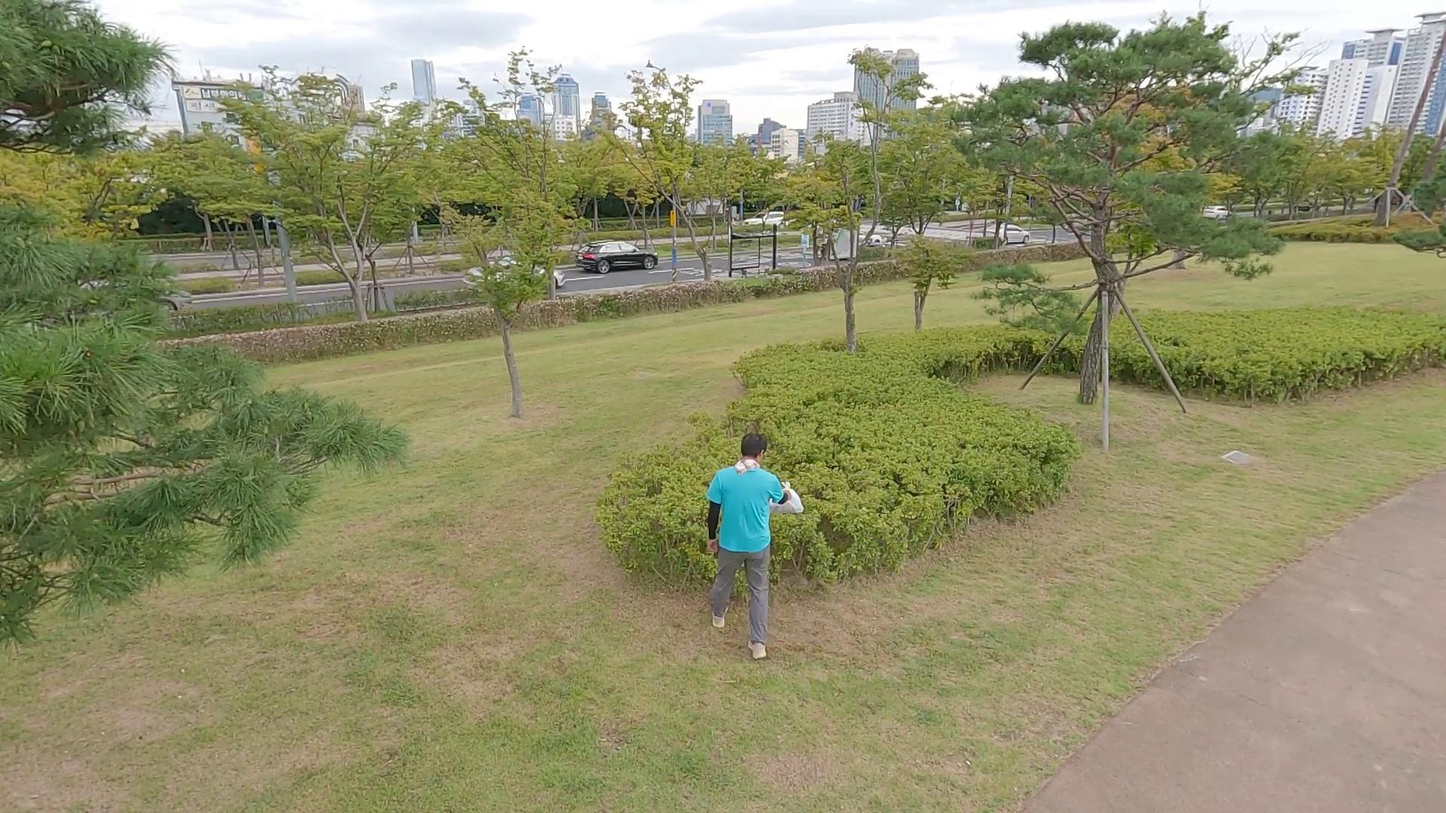person: (701, 430, 799, 665)
trash: (768, 478, 803, 517)
